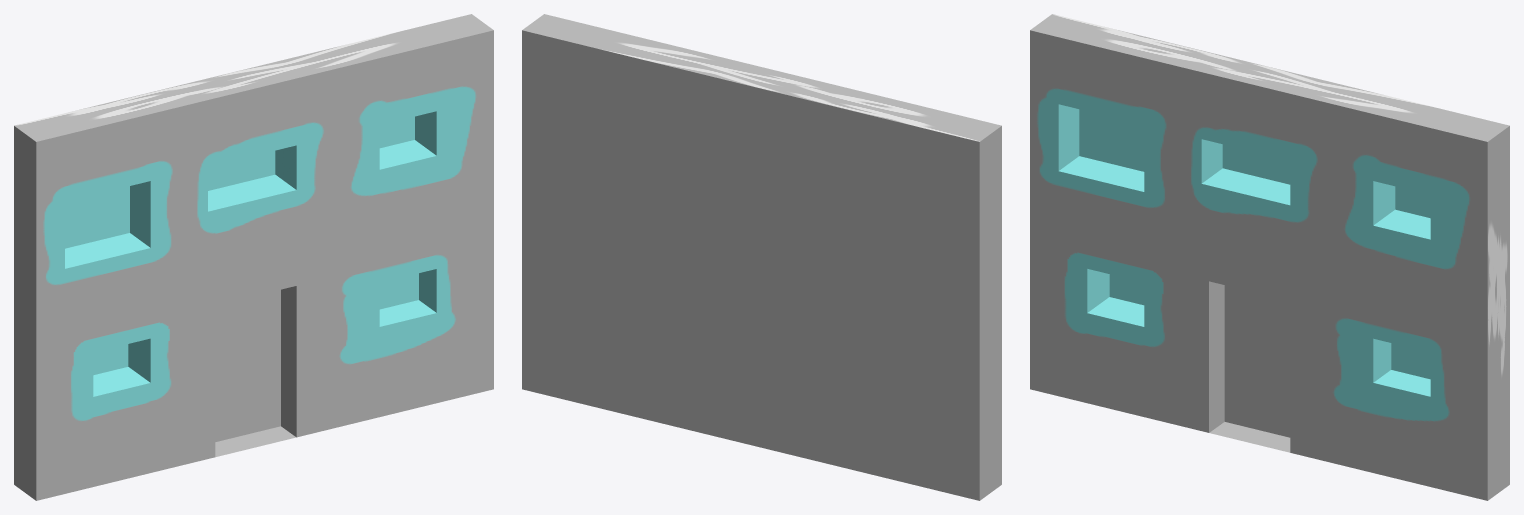
The model's file is плоский дом.fbx.
3 views of the same model, side by side, from view 1: azimuth 30°, elevation 25°; view 2: azimuth 150°, elevation 25°; view 3: azimuth 330°, elevation 25° (orthographic).
Visible parts, largest first — view 1: Cube; view 2: Cube; view 3: Cube.
Boxes of the visible parts, box(x1,y1,x2,y2) form: Cube: box(14, 14, 493, 500); Cube: box(522, 14, 1001, 500); Cube: box(1030, 14, 1509, 500).
Size of the model in its own units: 1147 by 860 by 96.61.
